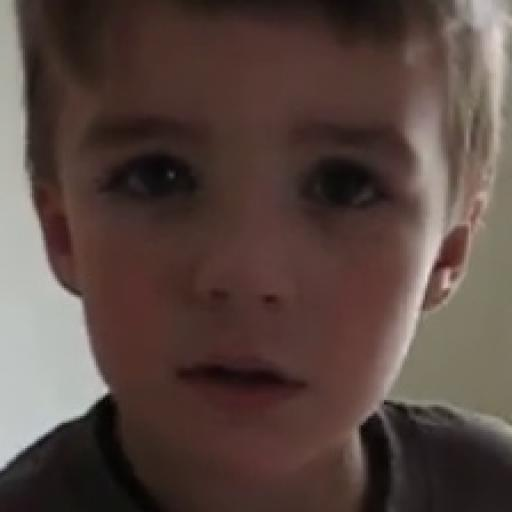Autism: (12, 14, 404, 481)
